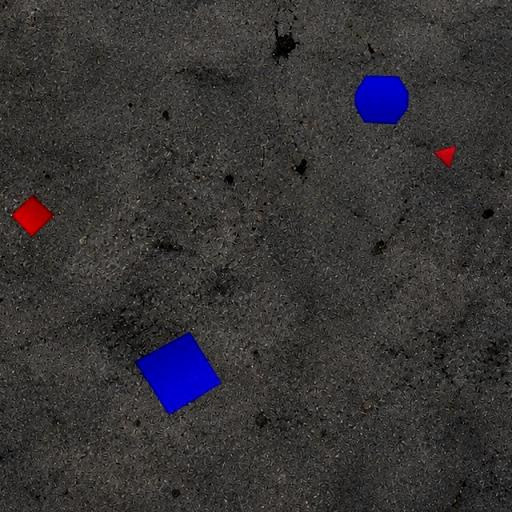BLUE_SQUARE: (134, 330, 222, 416)
RED_SQUARE: (10, 194, 54, 237)
